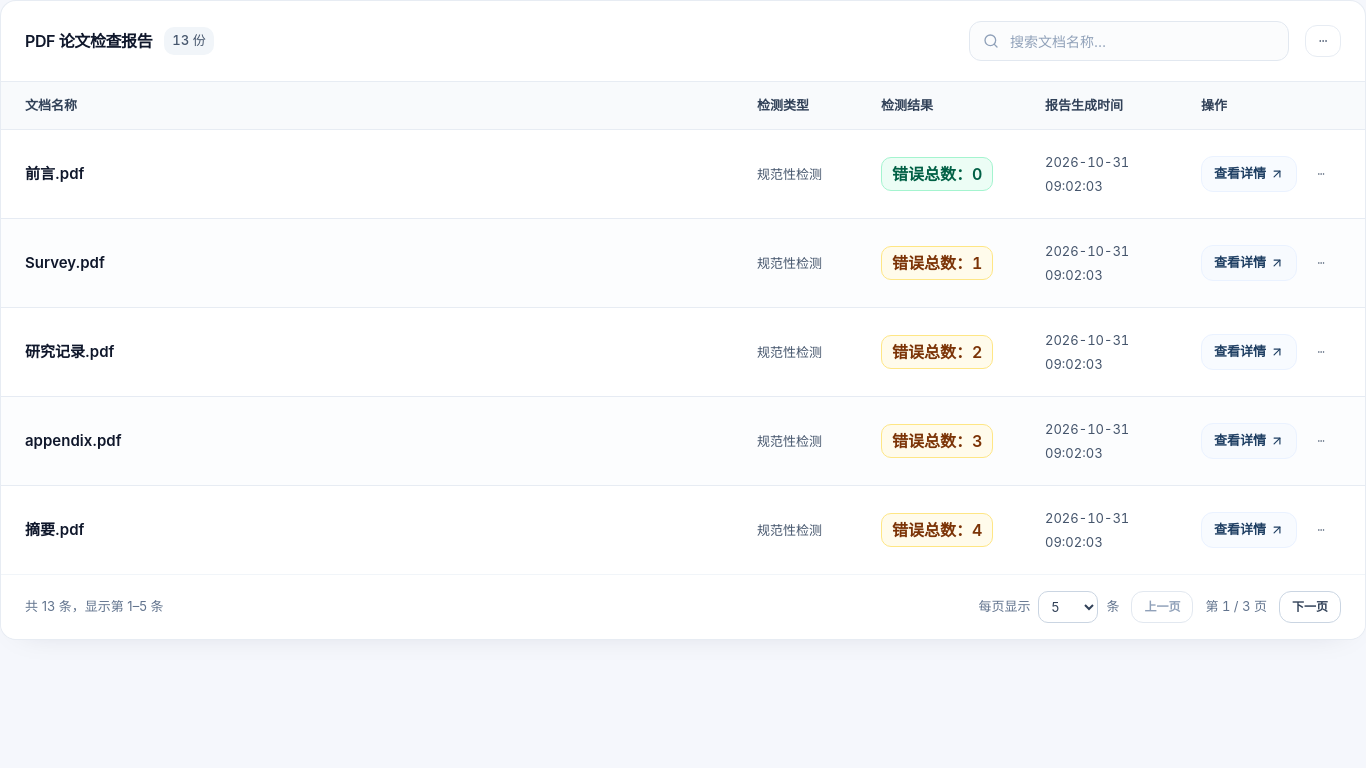
it: searches every saved filename with a trimmed case-insensitive substring before paginating
In the search field named "搜索检测报告": x=1129, y=41 [969, 21, 1289, 61], type "  tHeSiS-  "
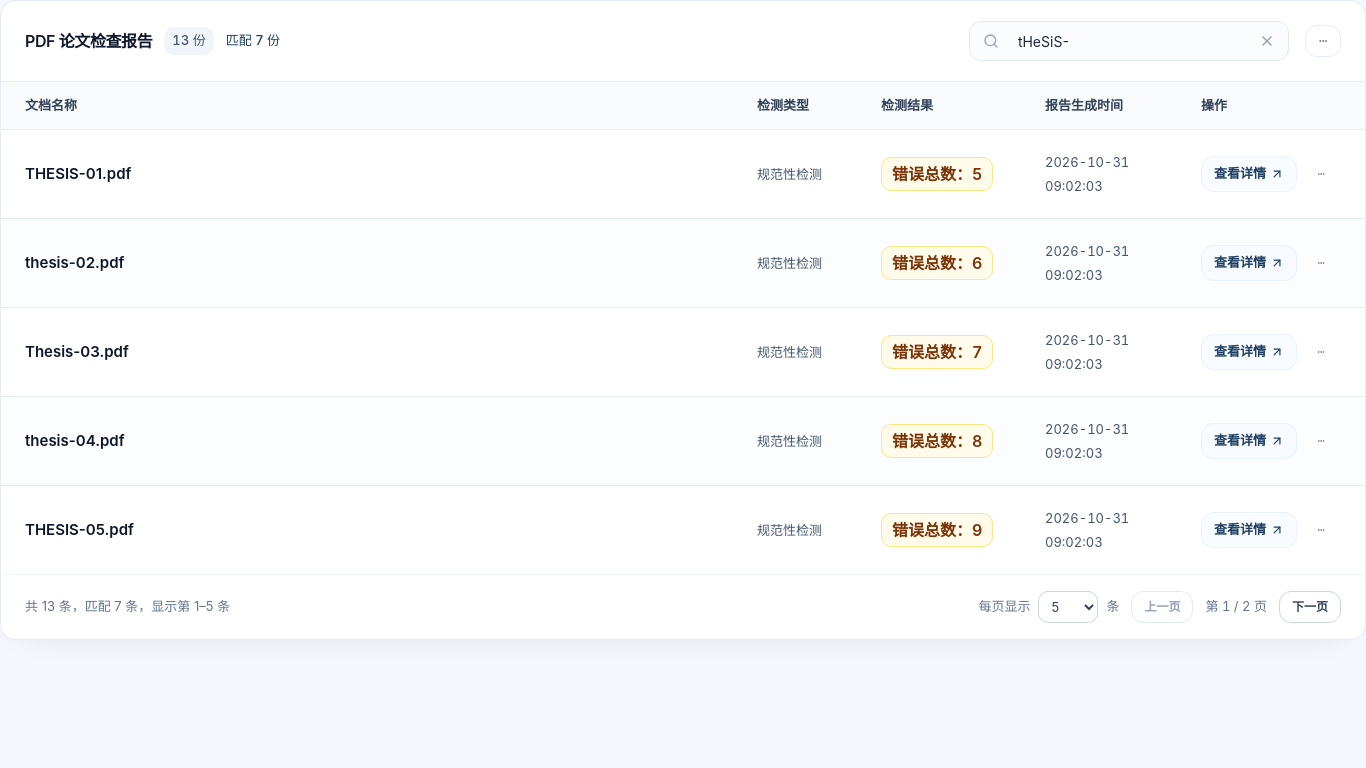
Expected: the text "13 份" is shown, [164, 27, 214, 55]
Result: the text "匹配 7 份" is shown at [226, 31, 280, 51]
Result: the text "共 13 条，匹配 7 条，显示第 1–5 条" is shown at [25, 597, 230, 616]
Click the button "下一页": x=1310, y=607 [1279, 591, 1341, 623]
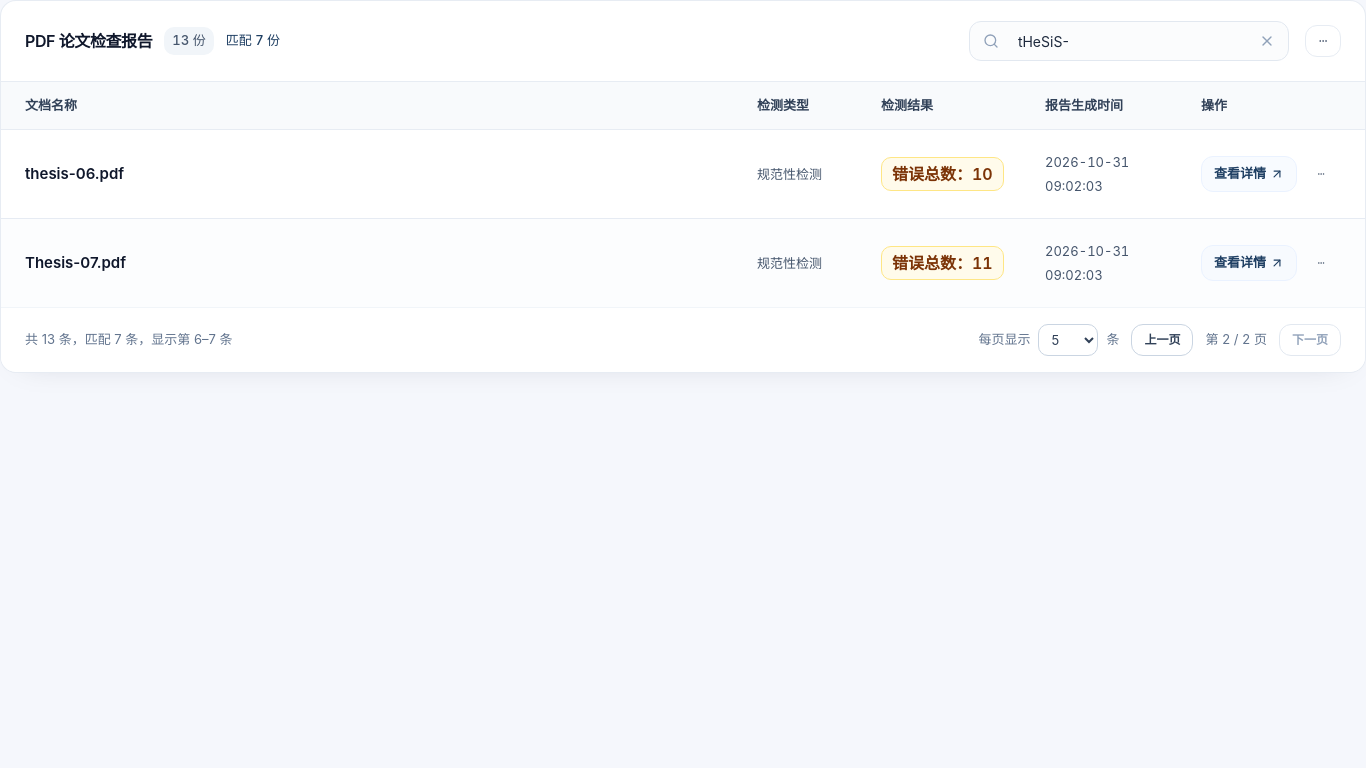
Result: the text "第 2 / 2 页" is shown at [1205, 330, 1267, 349]
